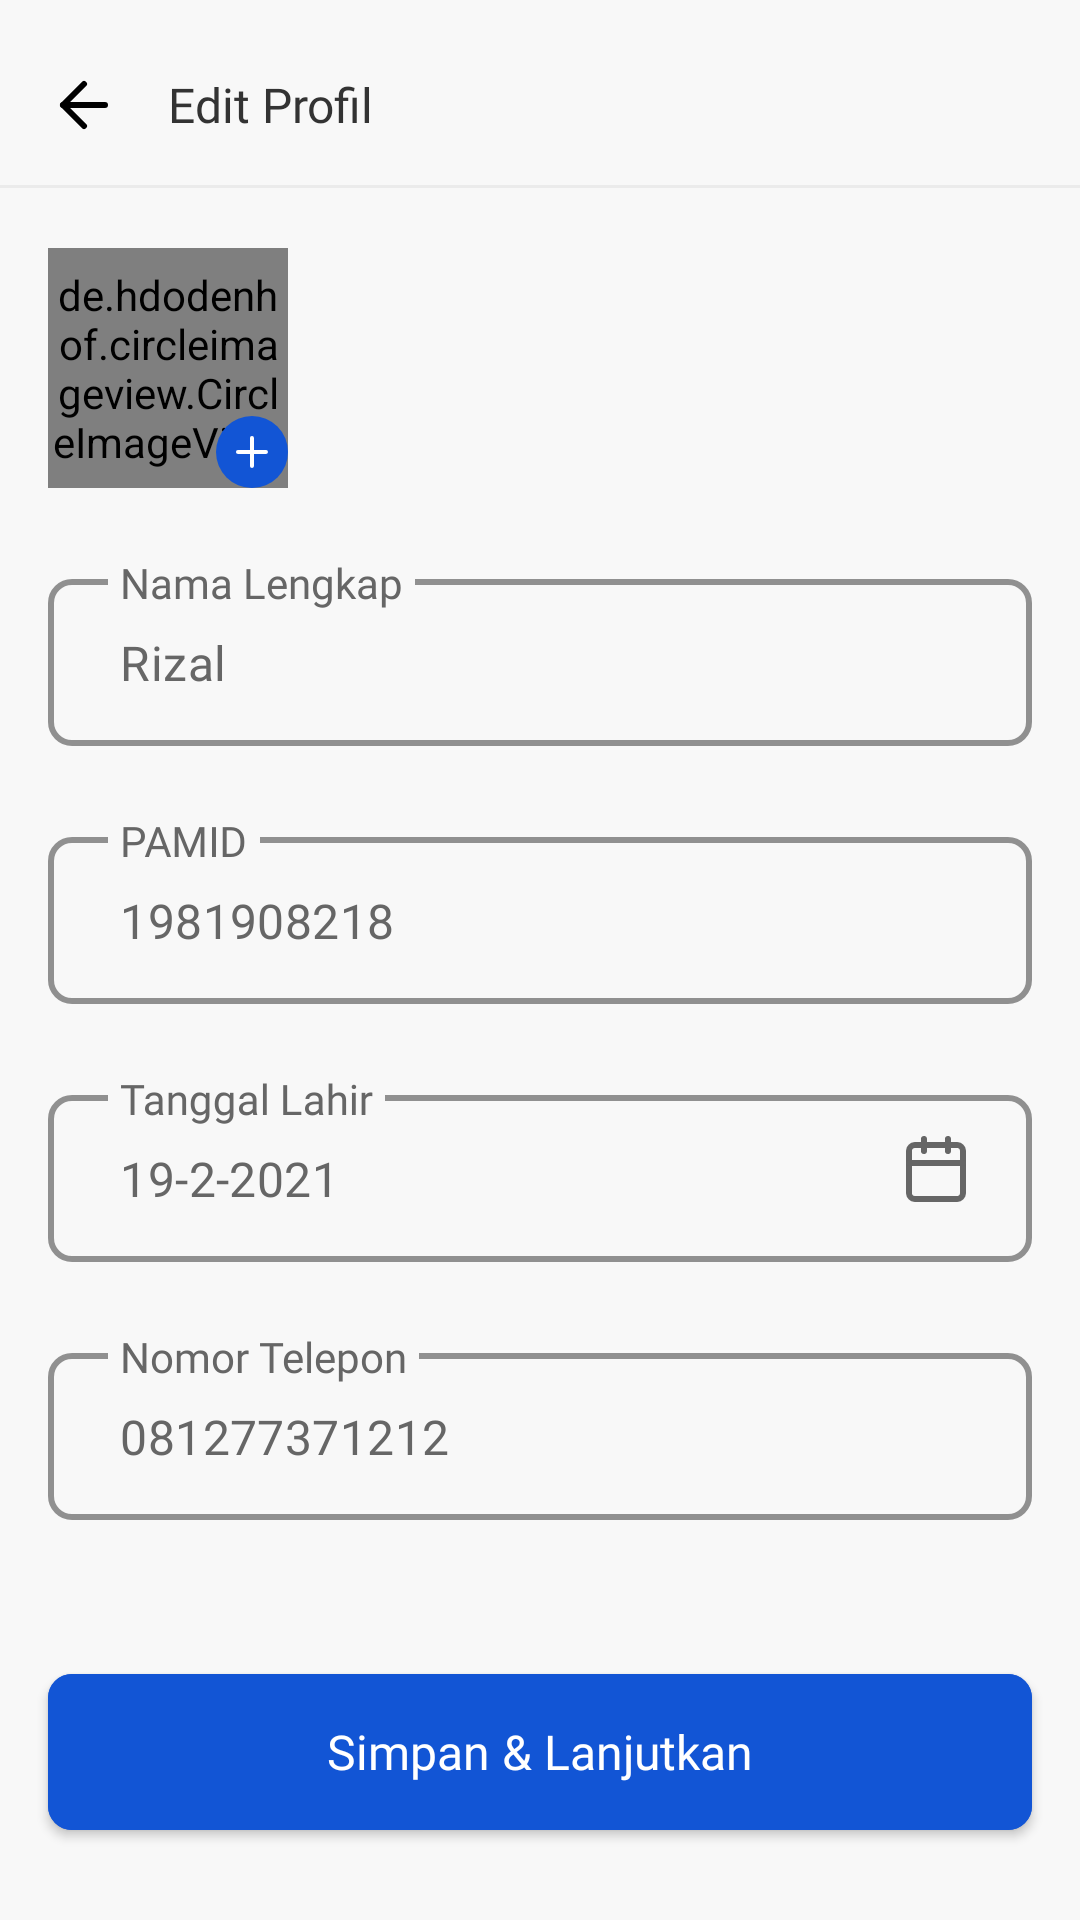

Where to tap for icons on this 1080 × 1920 app screen, as (x,y):
back: (84,105)
change picture: (252,452)
date: (936,1169)
